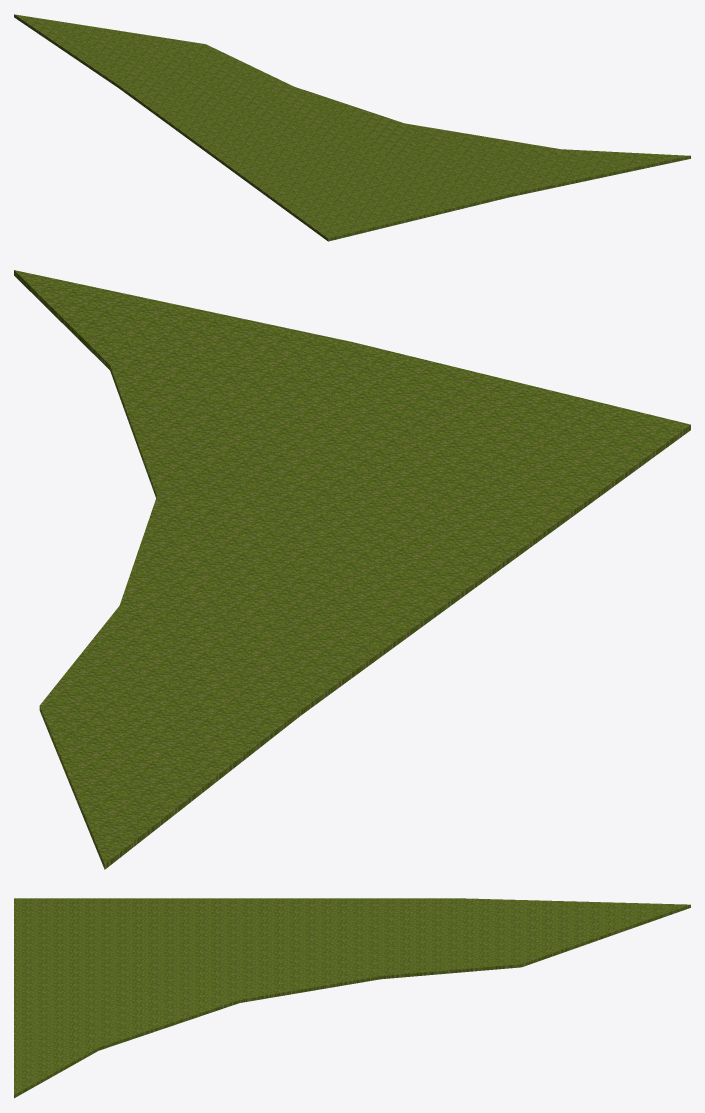
The picture shows the model from 3 angles, top to bottom: view 1: azimuth 30°, elevation 25°; view 2: azimuth 150°, elevation 25°; view 3: azimuth 270°, elevation 25°; orthographic projection. The views are drawn at different scales.
Parts seen in each view (by area): view 1: c3_base_plate-col; view 2: c3_base_plate-col; view 3: c3_base_plate-col.
Part boxes in pixels (bbox=[...]): c3_base_plate-col: bbox=[14, 14, 690, 241]; c3_base_plate-col: bbox=[14, 270, 690, 869]; c3_base_plate-col: bbox=[14, 898, 690, 1098].
Bounding box in the file's own units: 128 × 2.92 × 192.
Materials: 1 (1 with a texture image).
